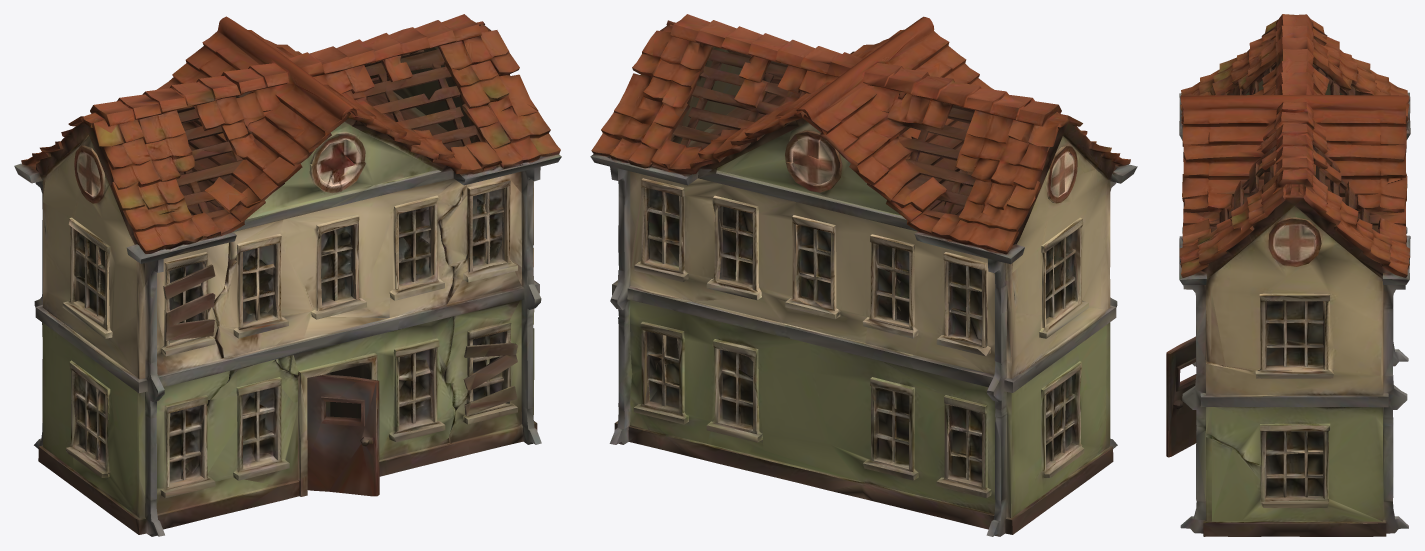
File: clinic_b_idle.glb
3 views of the same model, side by side, from view 1: azimuth 30°, elevation 25°; view 2: azimuth 150°, elevation 25°; view 3: azimuth 270°, elevation 25° (orthographic). The views are drawn at different scales.
Visible parts, largest first — view 1: tripo_node_0806aff8-5c62-472a-a941-fb6305712417; view 2: tripo_node_0806aff8-5c62-472a-a941-fb6305712417; view 3: tripo_node_0806aff8-5c62-472a-a941-fb6305712417.
Boxes of the visible parts, x1,y1,x2,y2 form: tripo_node_0806aff8-5c62-472a-a941-fb6305712417: [14, 14, 561, 536]; tripo_node_0806aff8-5c62-472a-a941-fb6305712417: [590, 14, 1137, 536]; tripo_node_0806aff8-5c62-472a-a941-fb6305712417: [1166, 14, 1410, 536].
Size of the model in its own units: 11.99 by 10.58 by 6.64.
1 material, 1 textured.
